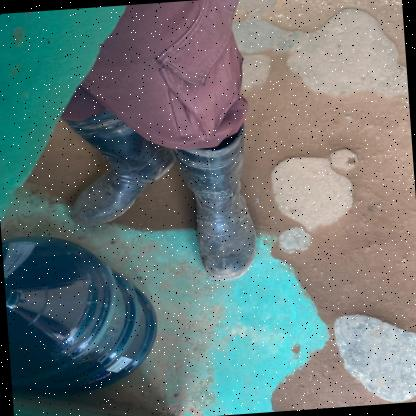bota: (52, 110, 180, 230), (174, 128, 266, 282)
